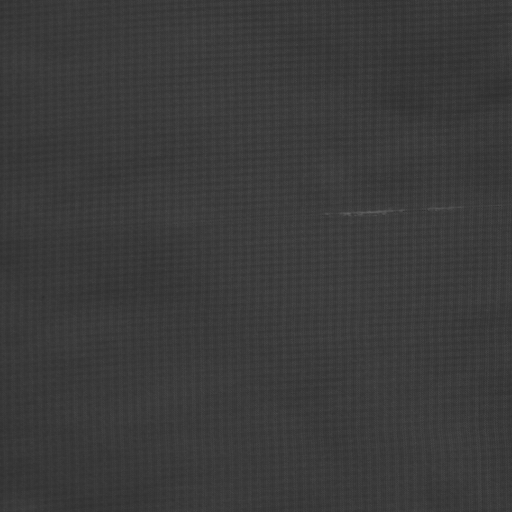defect: (321, 203, 512, 224)
